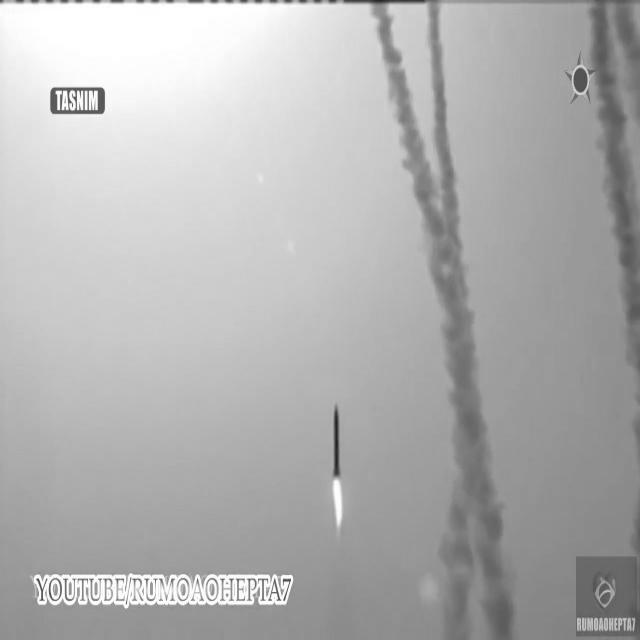missile: (330, 403, 342, 489)
